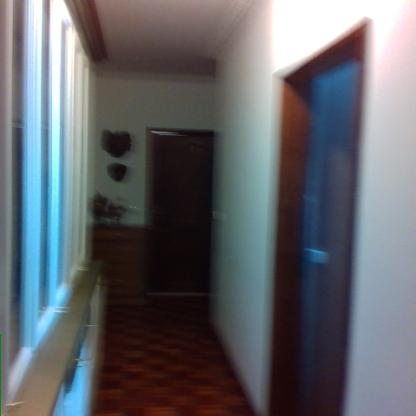closed: (142, 121, 226, 308)
